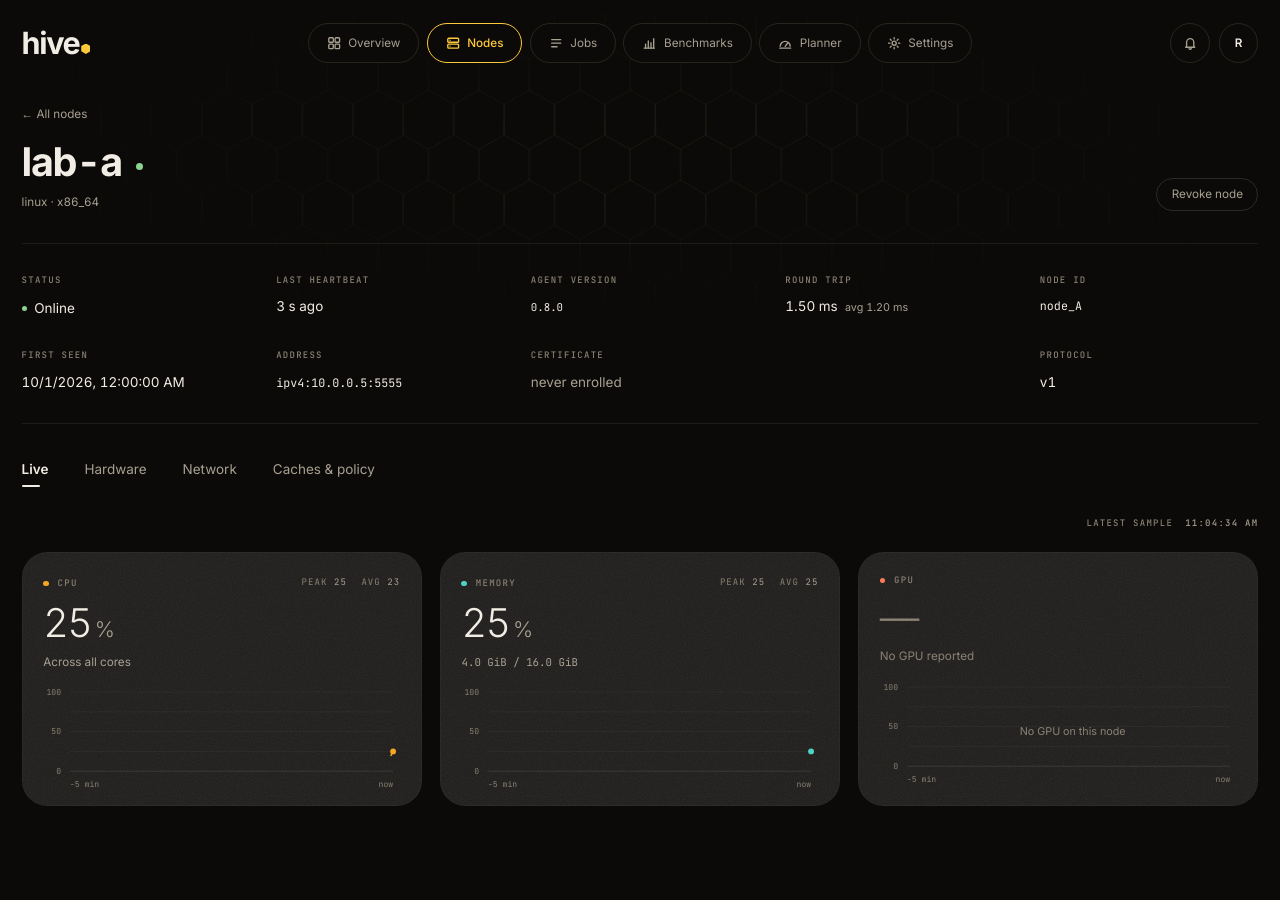
Test: Node detail › a revoke with no CSRF cookie is not sent and says to sign in again
Click the button "Revoke node" at (1207, 194), box x1=1156 y1=178 x2=1258 y2=211
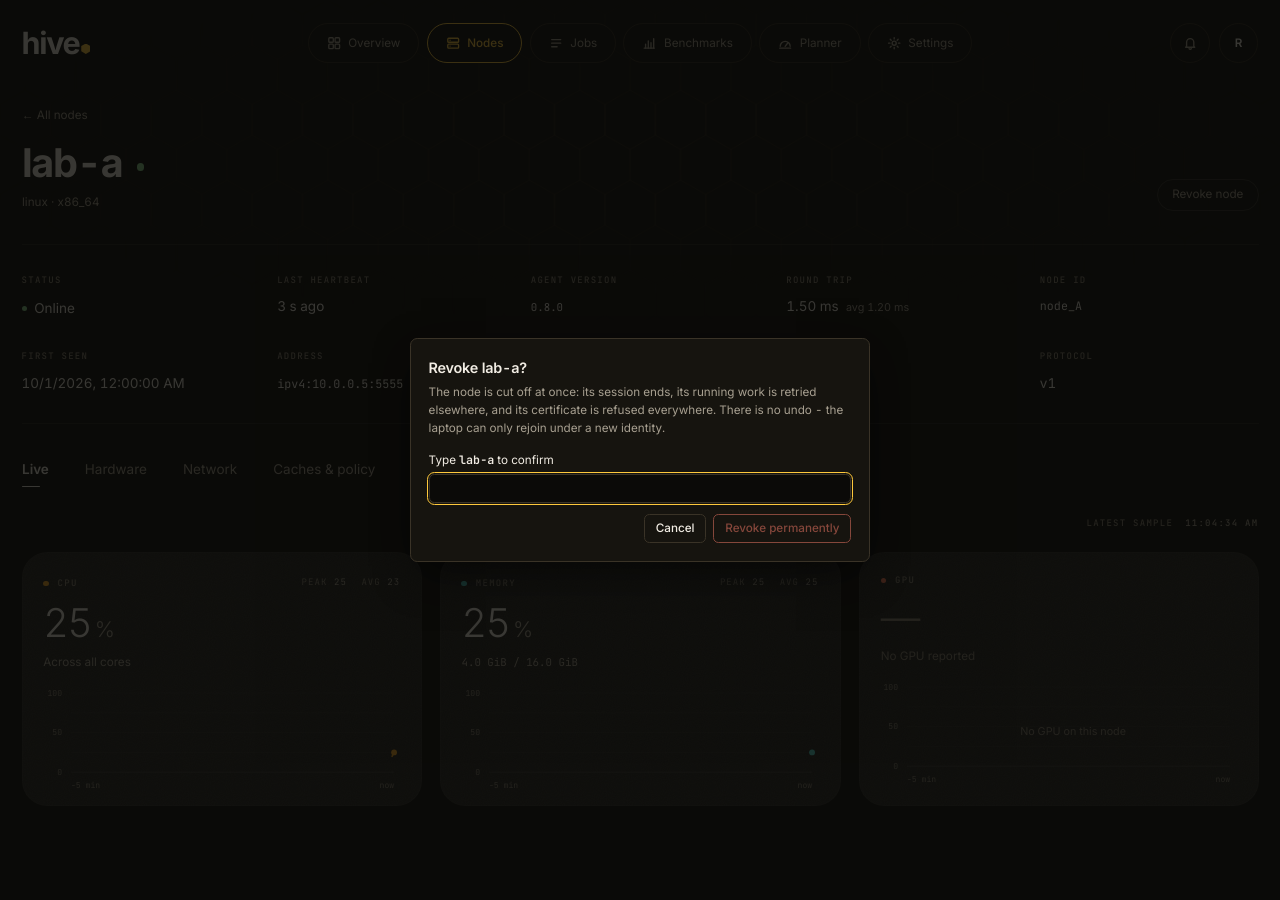
Type "lab-a" into the field at (640, 489), box x1=429 y1=474 x2=851 y2=503
Then press Enter
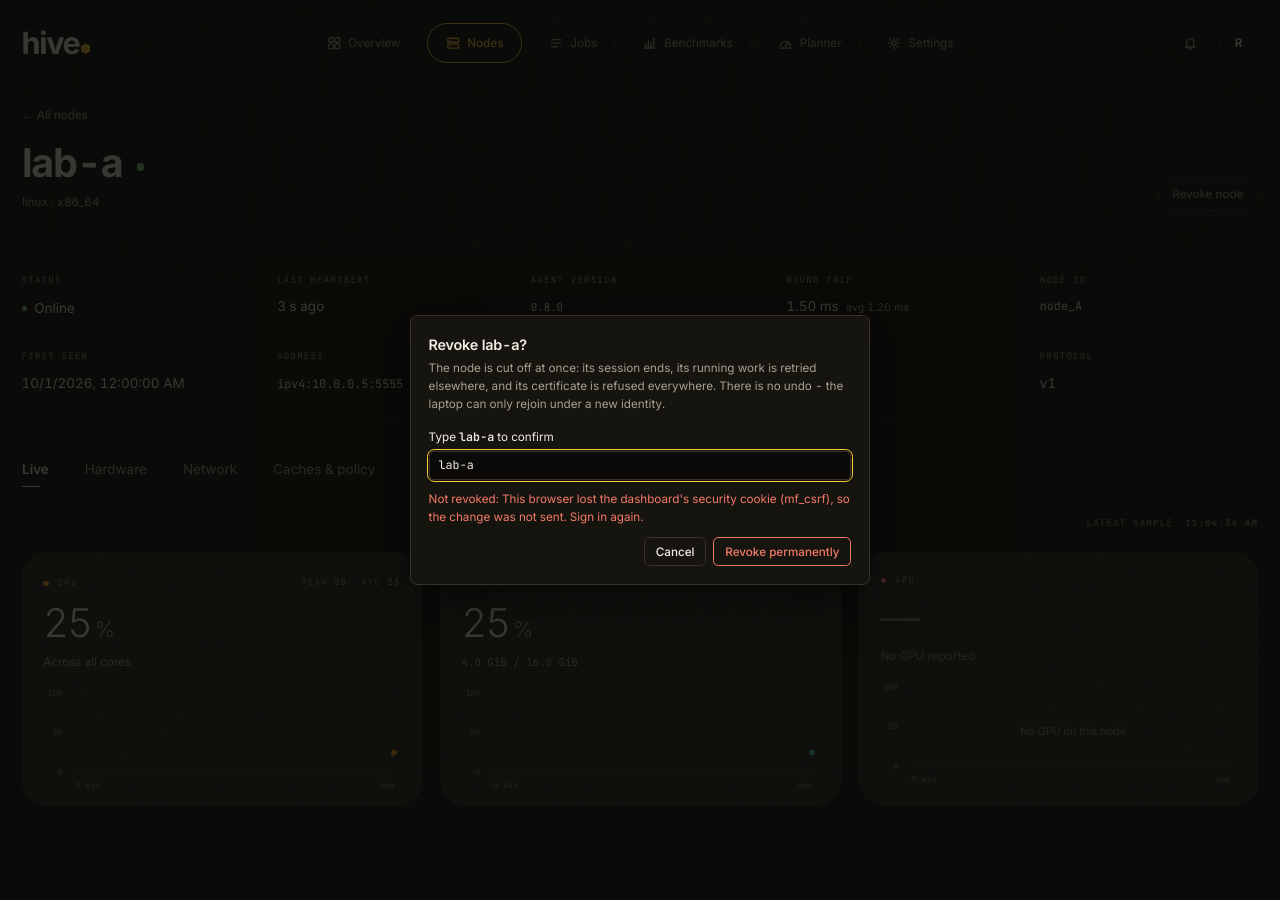
Now the message shows "Sign in again", box x1=429 y1=492 x2=850 y2=524
